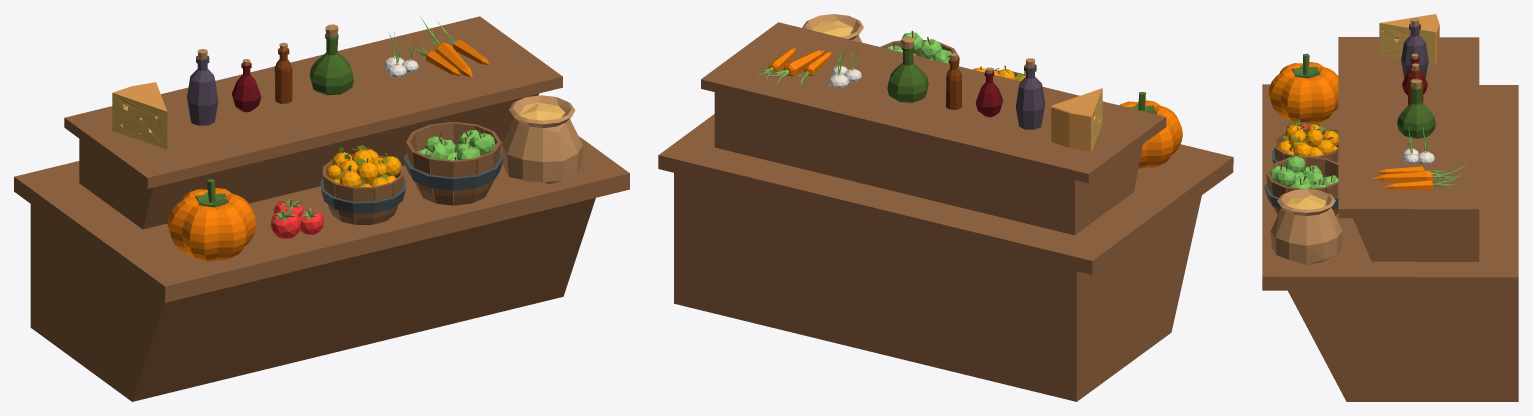
The model's file is Market_Table_03.fbx.
3 renders of one model, left to right at view 1: azimuth 30°, elevation 25°; view 2: azimuth 150°, elevation 25°; view 3: azimuth 270°, elevation 25°, orthographic. The views are drawn at different scales.
Parts seen in each view (by area): view 1: Market_Table_03; view 2: Market_Table_03; view 3: Market_Table_03.
Part boxes in pixels (<box>): Market_Table_03: <box>14,15,629,401</box>; Market_Table_03: <box>658,14,1233,401</box>; Market_Table_03: <box>1262,14,1518,401</box>.
Bounding box in the file's own units: 212 × 128 × 119.
